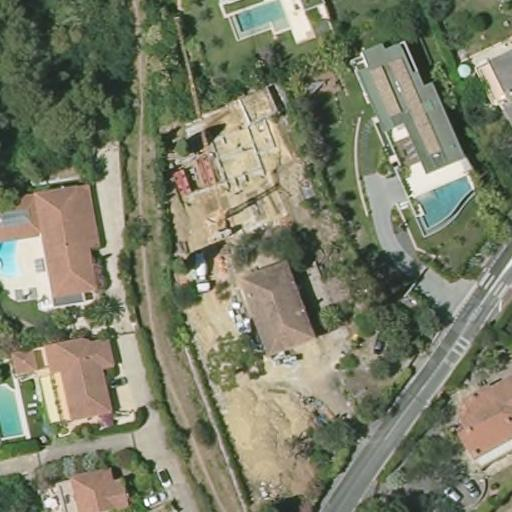pool: (228, 0, 297, 40), (0, 368, 32, 444), (0, 224, 29, 285)
